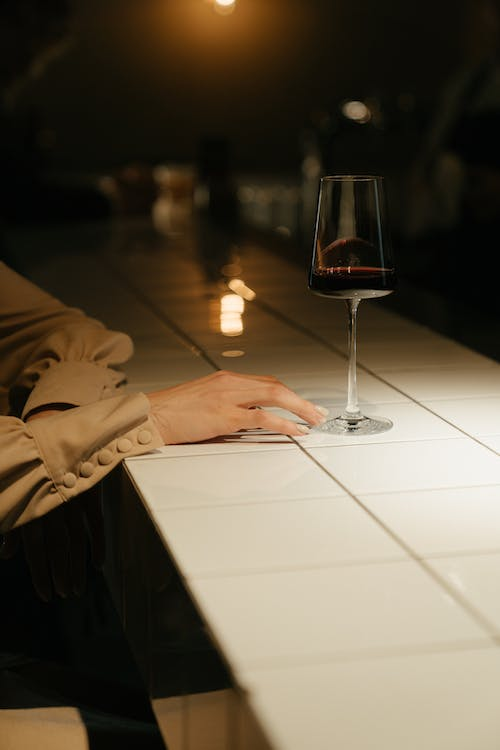alcohol: (305, 173, 396, 438)
